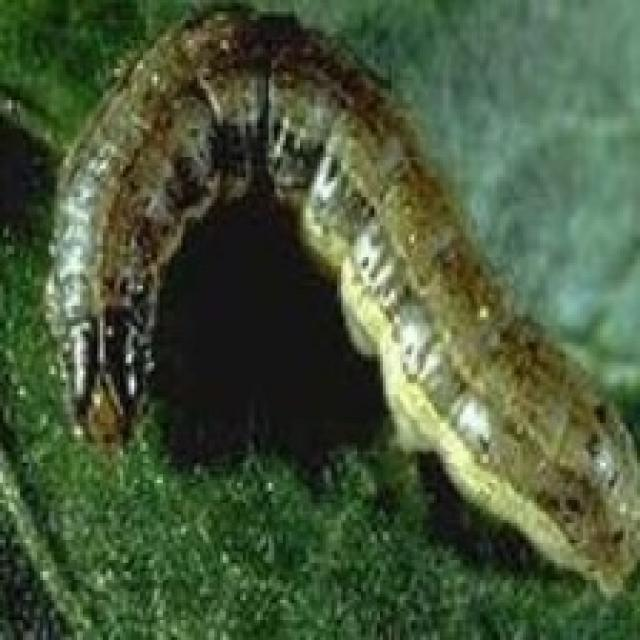Plaga: (27, 4, 639, 607)
